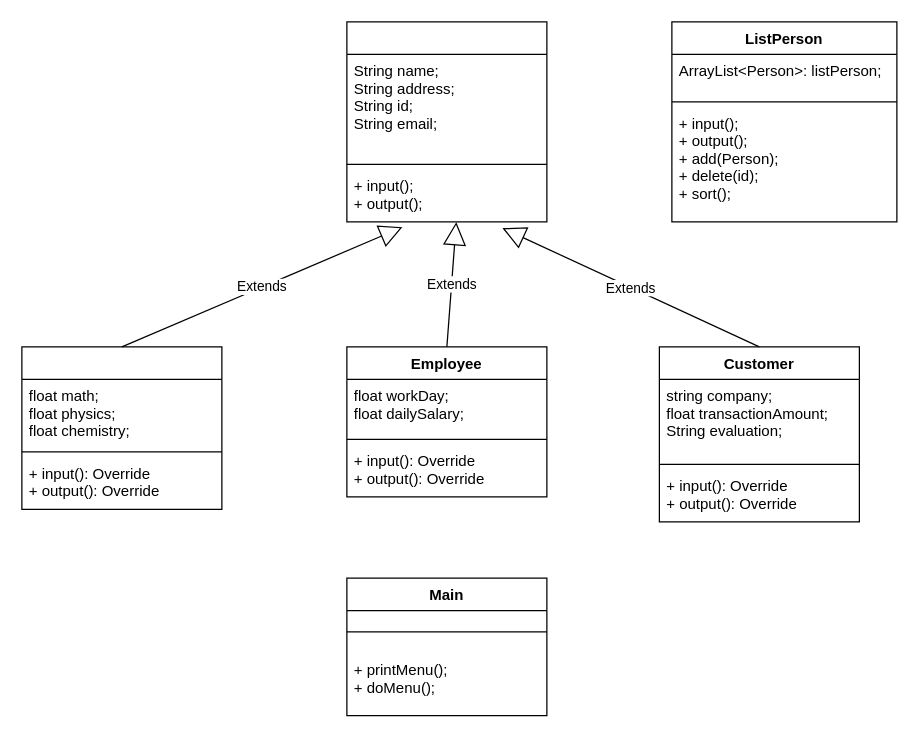
The diagram is 919 pixels wide and 741 high, and some of its shapes have lost their labels. The shapes that lost their labels are listed below. From the top down, each one's box as (x1, y1, x2, y2) in pixels, then its label:
(346, 21, 547, 222): Person
(21, 346, 222, 509): Student
